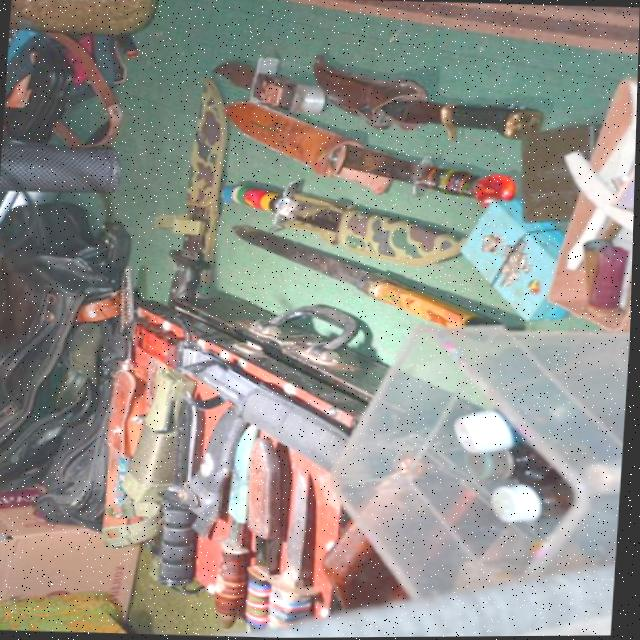knife: (117, 307, 349, 467), (234, 96, 532, 205), (300, 52, 559, 152), (235, 223, 516, 307), (222, 172, 493, 258), (152, 393, 207, 599), (270, 468, 335, 638), (237, 433, 288, 638), (176, 79, 222, 286), (219, 414, 260, 634)
